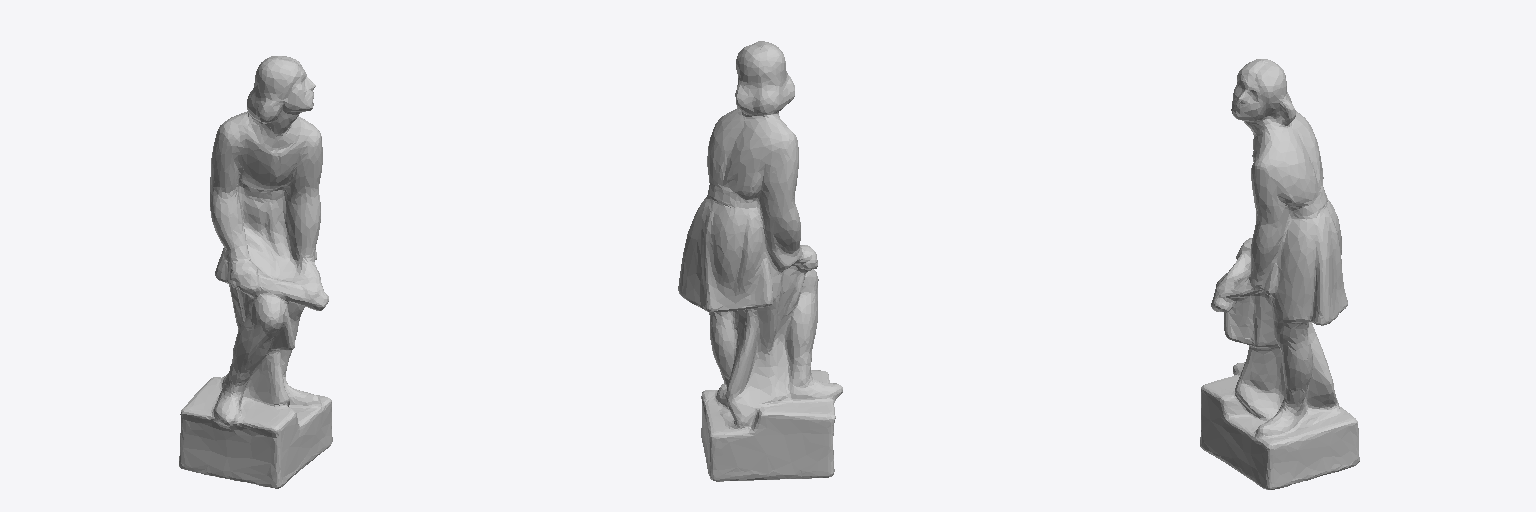
Rendered from scholar.obj.
3 views of the same model, side by side, from view 1: azimuth 30°, elevation 25°; view 2: azimuth 150°, elevation 25°; view 3: azimuth 270°, elevation 25° (orthographic).
Parts seen in each view (by area): view 1: lowPoly; view 2: lowPoly; view 3: lowPoly.
Part boxes in pixels (x1,y1,x2,y2): lowPoly: (179,56,332,488); lowPoly: (678,41,842,481); lowPoly: (1200,59,1359,489).
Bounding box in the file's own units: 0.7604 × 2.05 × 0.7379.